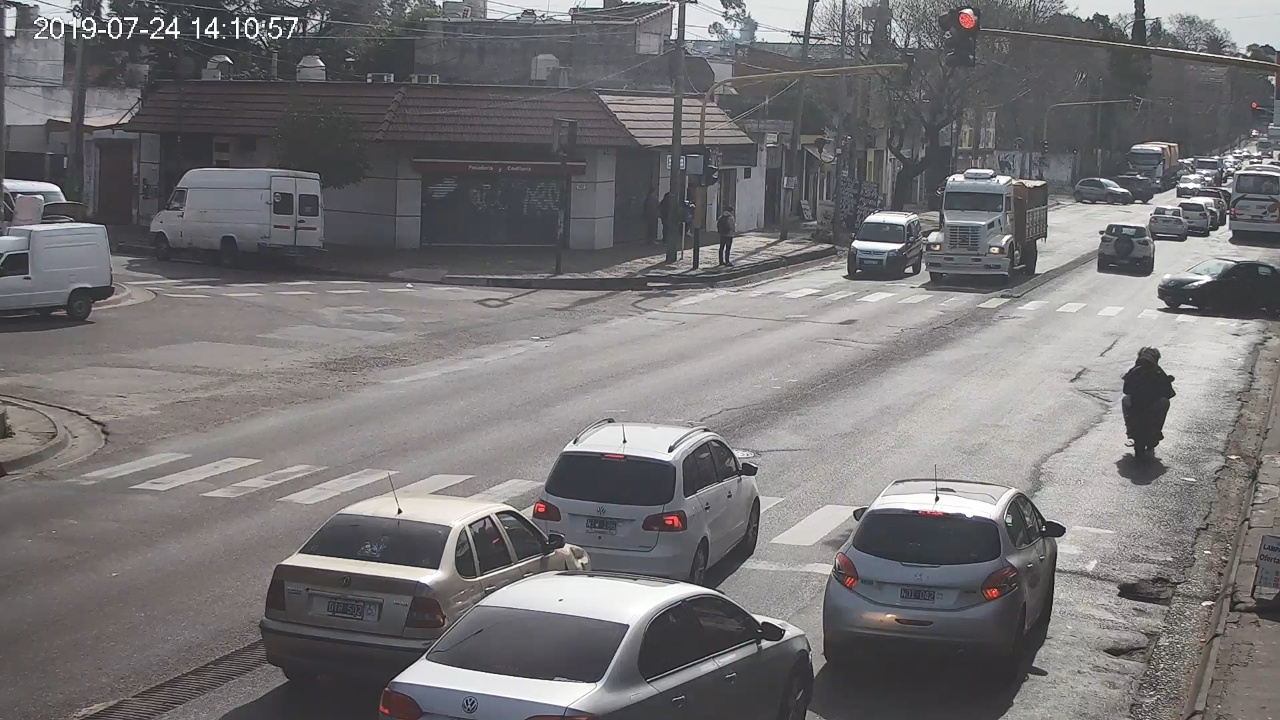car: (381, 571, 812, 720), (823, 479, 1066, 661), (532, 418, 761, 583), (1098, 224, 1155, 273)
front truck: (925, 168, 1047, 285)
motorcycle: (1121, 374, 1175, 454)
traffic light: (957, 6, 979, 67)
